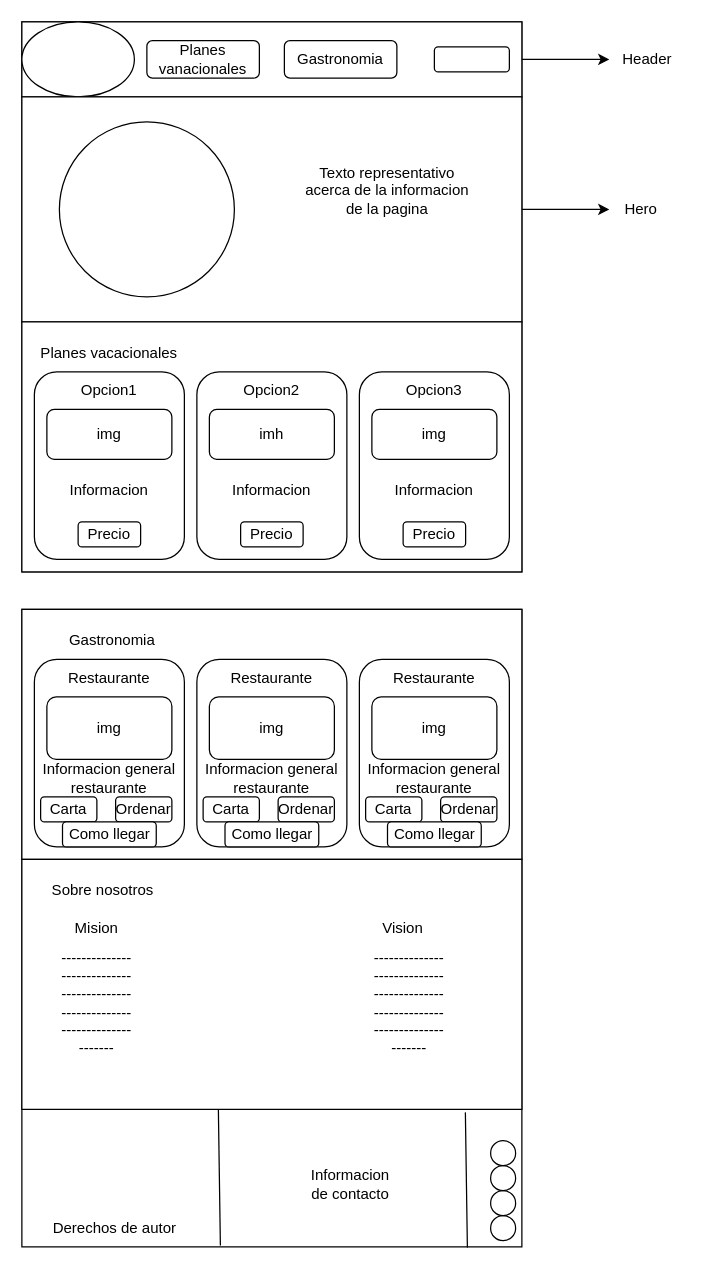
This 706x1271 diagram has some shape labels left out. The centre of each missing label's shape, as x and y in pixels:
"Login" belongs at (x=471, y=59).
"Logo o nombre" belongs at (x=77, y=59).
